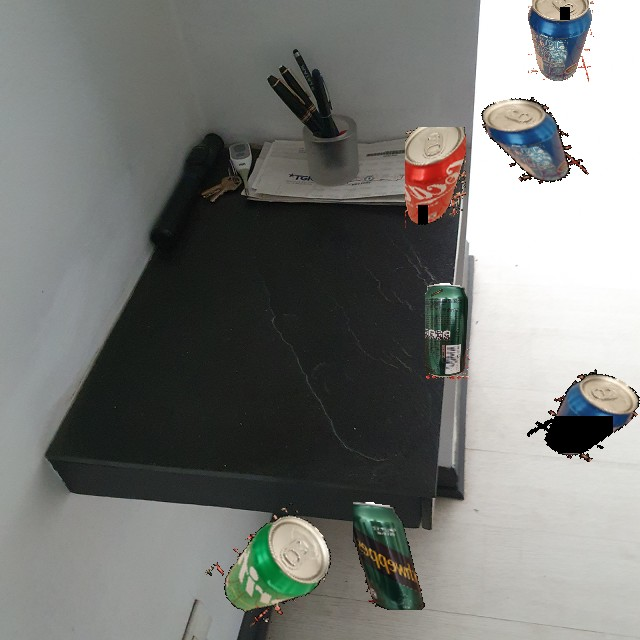coca cola: (405, 127, 466, 228)
pepsi: (472, 73, 593, 209), (520, 351, 640, 481), (528, 0, 594, 82)
schweppes: (353, 502, 427, 610), (425, 283, 470, 379)
sprite: (205, 500, 345, 635)
